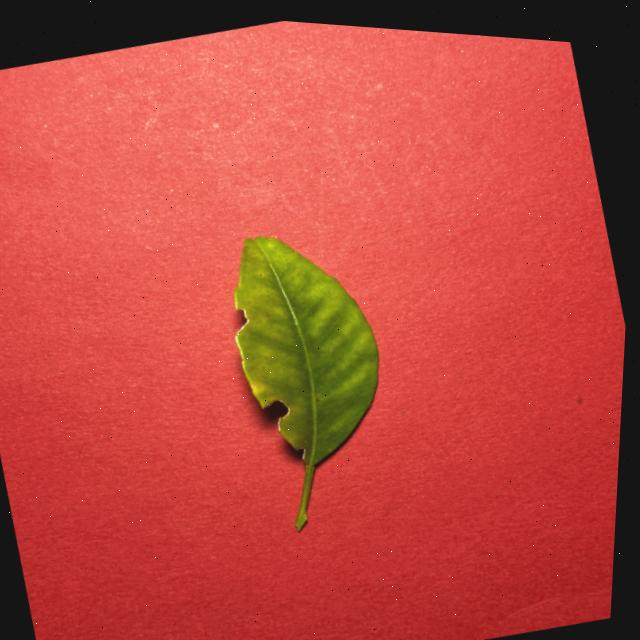greening: (234, 236, 378, 530)
